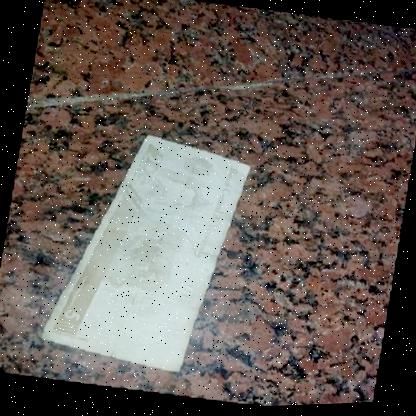five-back-vef: (36, 122, 253, 383)
